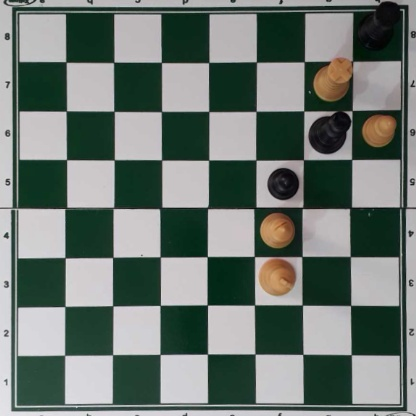black-king: (306, 111, 351, 153)
black-pawn: (267, 165, 299, 200)
black-rook: (356, 1, 399, 51)
white-bishop: (260, 211, 295, 248)
white-king: (256, 256, 297, 297)
white-pawn: (361, 112, 397, 148)
white-rook: (311, 55, 353, 101)
